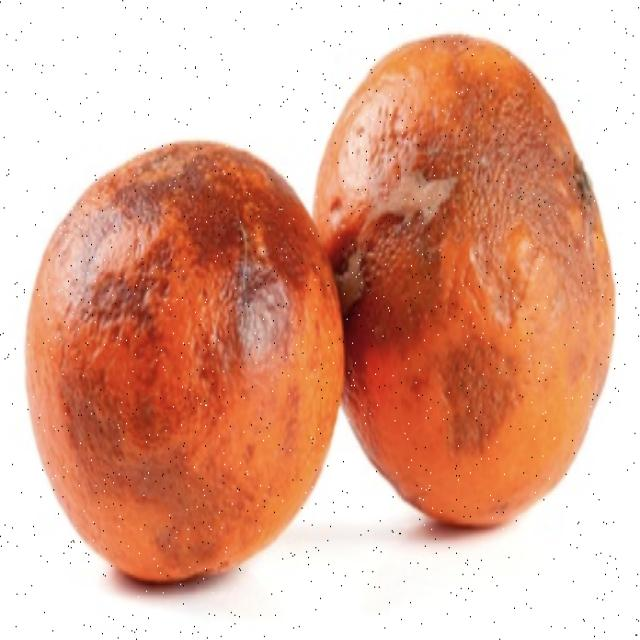sedikit_busuk: (314, 31, 615, 532), (24, 137, 346, 588)
